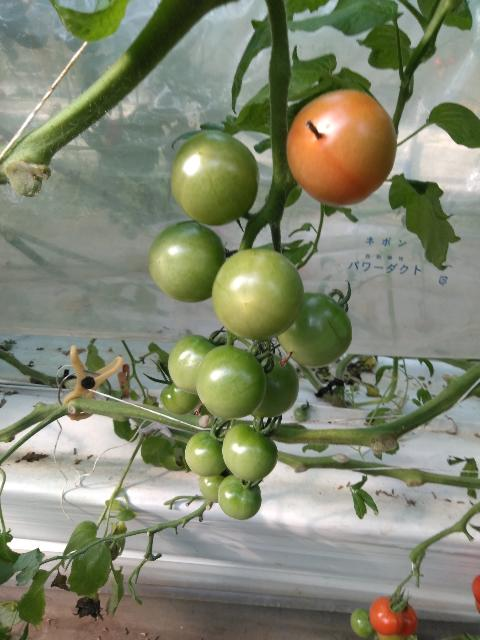l_fully_ripened: (369, 596, 404, 636), (395, 602, 417, 637)
l_green: (170, 130, 261, 226), (212, 247, 305, 340), (148, 222, 227, 303), (278, 292, 353, 368), (195, 345, 267, 419), (222, 423, 278, 482), (251, 353, 300, 418), (167, 335, 219, 395), (185, 431, 228, 477), (218, 476, 262, 520), (161, 382, 201, 415), (198, 467, 234, 502), (350, 607, 375, 638)
l_half_ripened: (285, 89, 397, 206)
